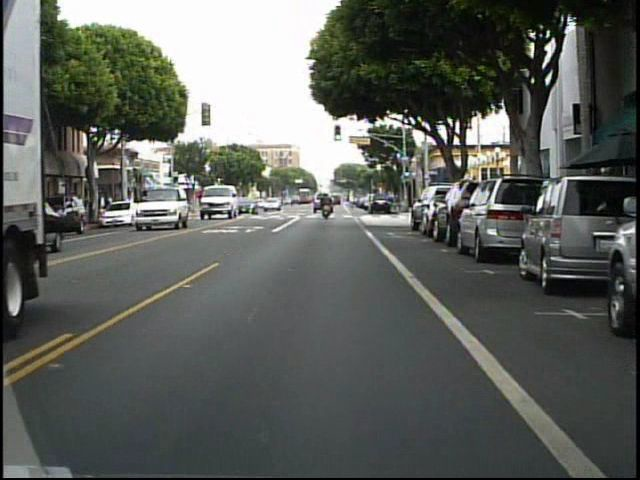person: (318, 191, 334, 219)
